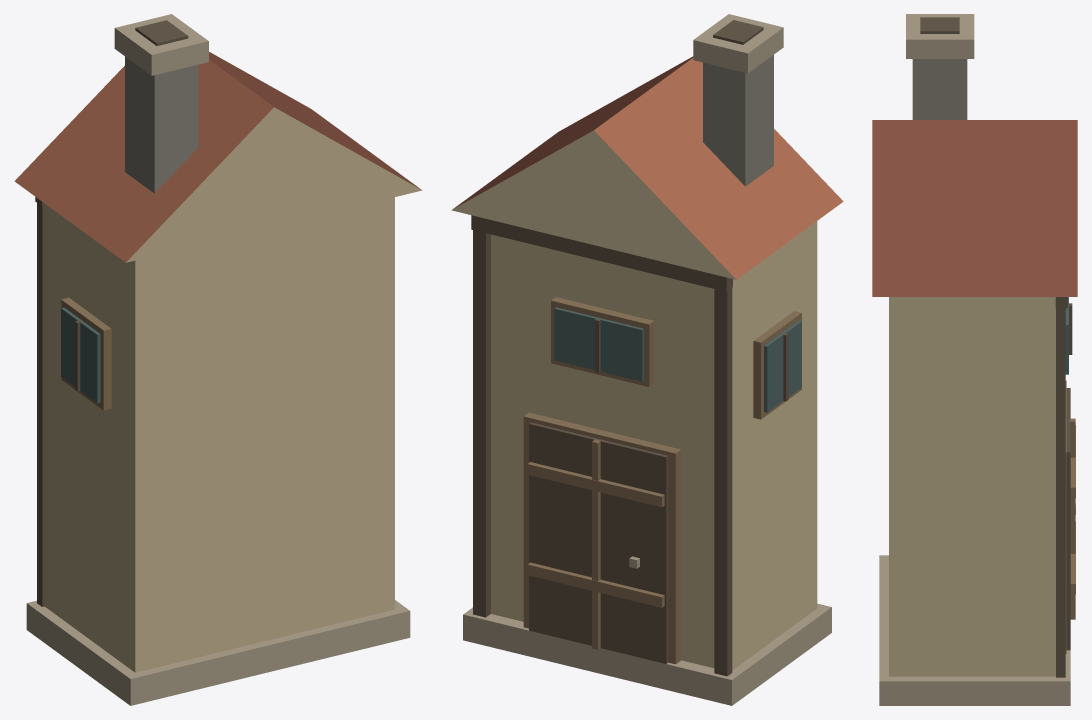
Rendered from Building_Workshop.fbx.
The picture shows the model from 3 angles, left to right: view 1: azimuth 30°, elevation 25°; view 2: azimuth 150°, elevation 25°; view 3: azimuth 270°, elevation 25°; orthographic projection. The views are drawn at different scales.
Visible parts, largest first — view 1: Building_Workshop; view 2: Building_Workshop; view 3: Building_Workshop.
Boxes of the visible parts, x1,y1,x2,y2 form: Building_Workshop: [14, 14, 422, 705]; Building_Workshop: [451, 14, 843, 705]; Building_Workshop: [872, 14, 1077, 705].
Bounding box in the file's own units: 1.04 × 2.12 × 0.676.
